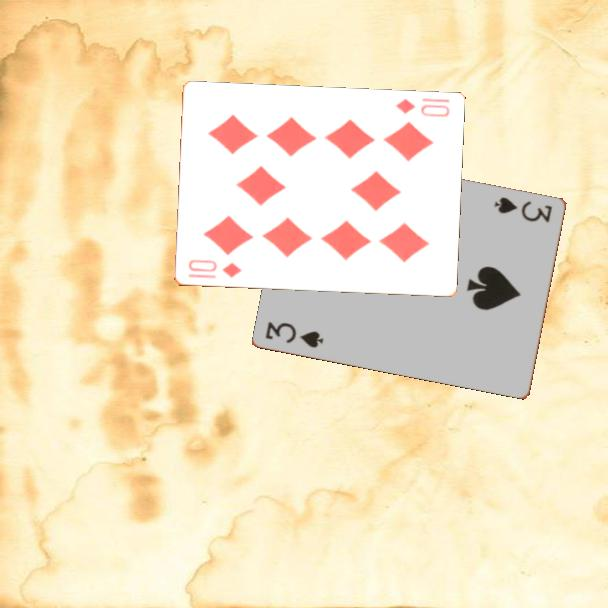d10: (392, 95, 452, 120), (185, 256, 244, 281)
s03: (262, 318, 327, 351), (491, 193, 555, 225)
